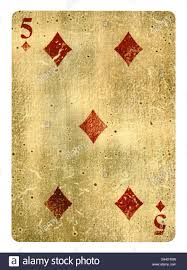five of diamonds: (11, 12, 174, 241)
